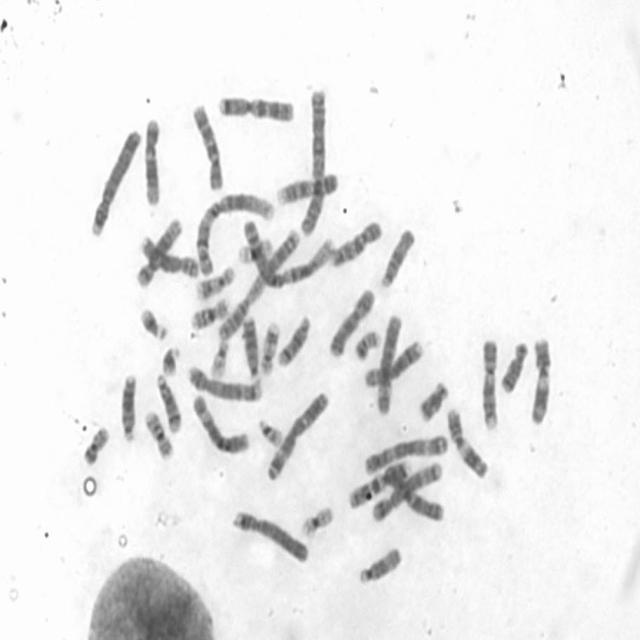A1: (242, 216, 334, 292), (196, 191, 274, 277)
A2: (217, 228, 301, 340), (299, 88, 327, 240)
A3: (264, 392, 330, 484), (365, 435, 449, 475)
B4: (89, 128, 142, 239), (230, 509, 310, 565)
B5: (372, 462, 443, 524), (187, 365, 263, 402)
C10: (192, 104, 224, 192), (331, 218, 382, 269)
C11: (445, 408, 489, 478), (530, 335, 552, 426)
C12: (136, 216, 182, 288), (144, 117, 160, 208)
C6: (190, 394, 250, 454), (374, 314, 402, 416)
C7: (349, 458, 409, 509), (216, 97, 296, 125)
C8: (364, 339, 425, 387), (140, 233, 199, 278)
C9: (276, 172, 340, 206), (478, 339, 498, 430)
D13: (119, 374, 137, 446), (242, 314, 260, 378)
D14: (278, 314, 311, 368), (156, 374, 182, 434)
D15: (379, 228, 415, 287), (358, 546, 404, 587)
E16: (144, 411, 174, 462), (190, 297, 230, 330)
E17: (196, 265, 234, 300), (259, 320, 280, 374)
E18: (500, 341, 528, 395), (419, 382, 448, 422)
F19: (301, 506, 333, 540), (238, 236, 272, 264)
F20: (81, 428, 110, 466), (355, 330, 381, 362)
G21: (140, 308, 168, 341), (160, 346, 181, 377)
G22: (209, 339, 231, 379), (258, 418, 282, 449)
X: (384, 464, 444, 522), (327, 289, 376, 357)
